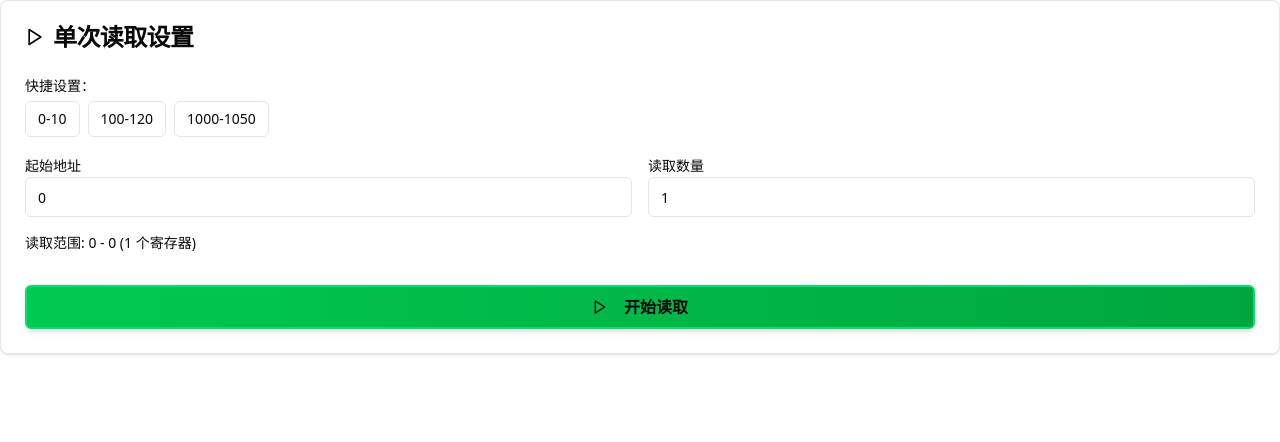
Scenario: SingleRead › 应该验证输入范围
# 设置无效的起始地址
Replace the text in the number field labelled "起始地址" with "70000" at (328, 197), box [25,177,632,217]
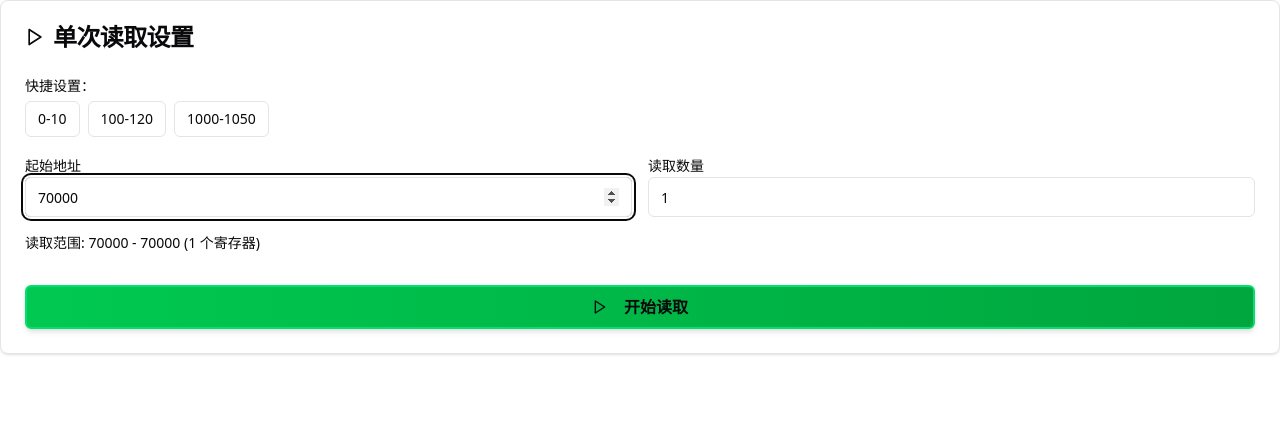
Click the button "开始读取" at (640, 307), box [25,285,1255,329]
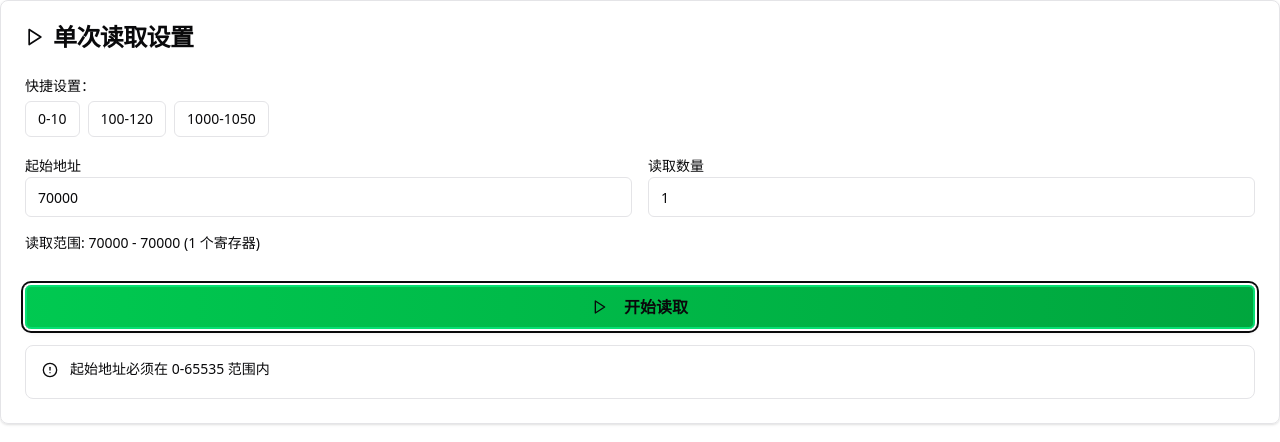
Now the text "起始地址必须在 0-65535 范围内" is shown, box [70,359,270,378]
